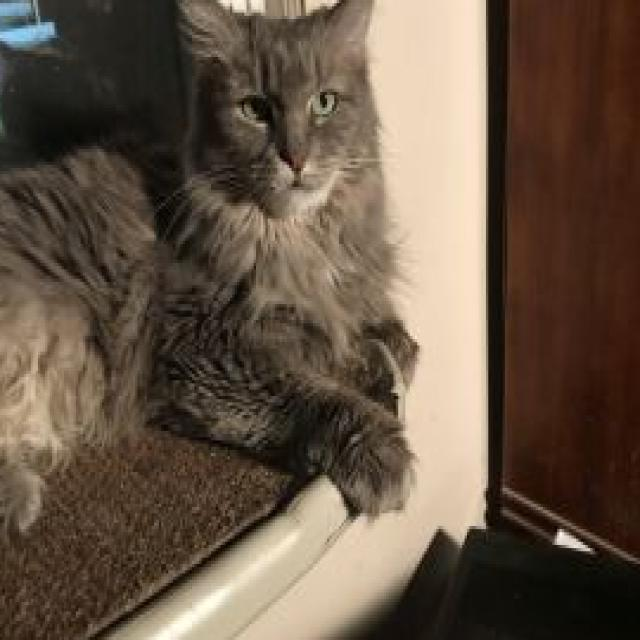Maine Coon: (0, 0, 424, 529)
